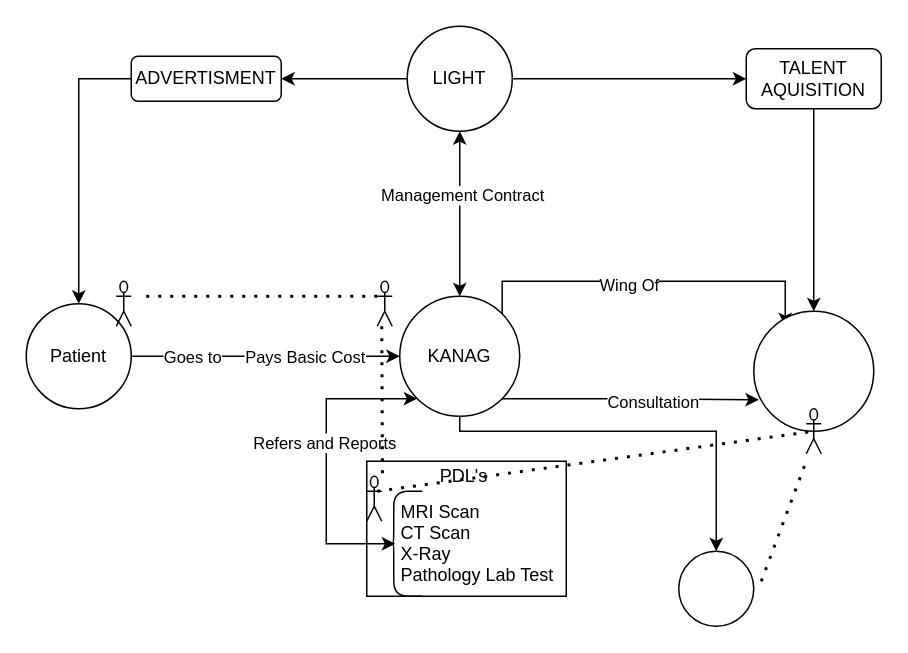
Some shapes in this 908 by 653 pixel diagram are drawn without their labels. The box of each missing label's shape, as (x1, y1, x2, y2) in pixels:
K PAIN CENTER(Dr. Dhruv Bibra): (752, 310, 874, 431)
K Pharma: (677, 550, 754, 626)
